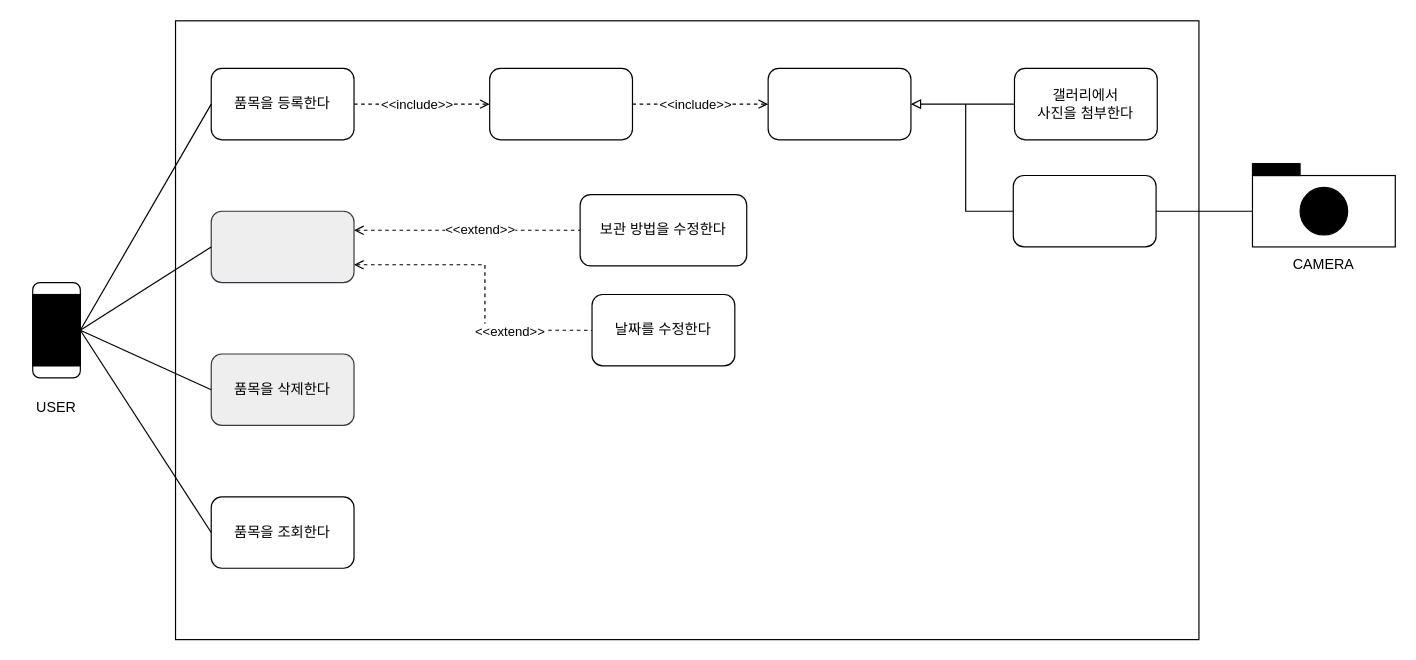
The diagram is 1416 pixels wide and 660 high, and some of its shapes have lost their labels. The shapes that lost their labels are listed below. From the top down, each one's centre as x and y in pixels, then its label:
At (x=560, y=103): "텍스트를 추출한다 (OCR)".
At (x=839, y=103): "사진을 첨부한다".
At (x=1084, y=210): "카메라로 촬영하여 사진을 첨부한다".
At (x=282, y=246): "품목을 수정한다".
